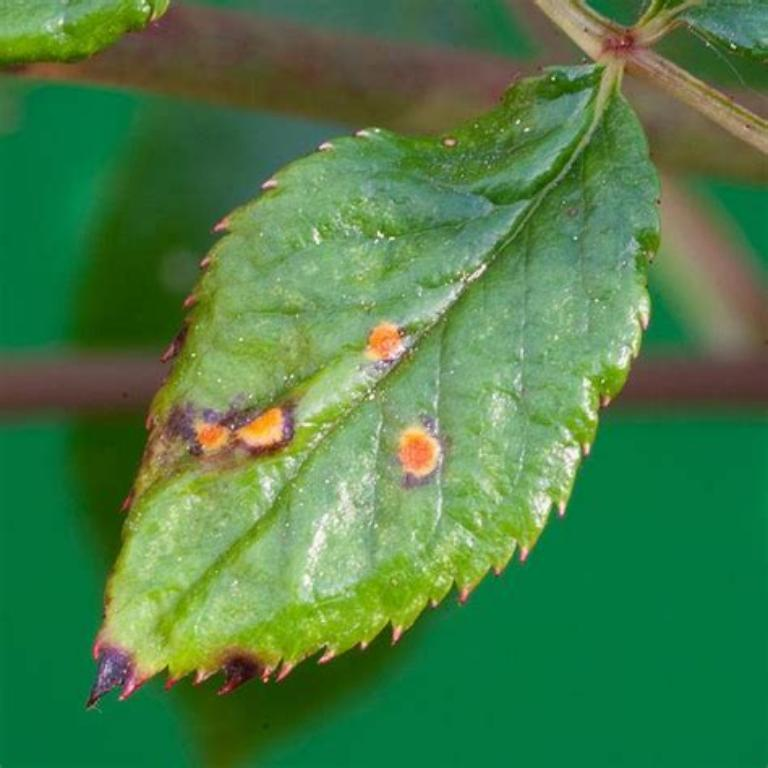blight: (76, 590, 270, 740)
